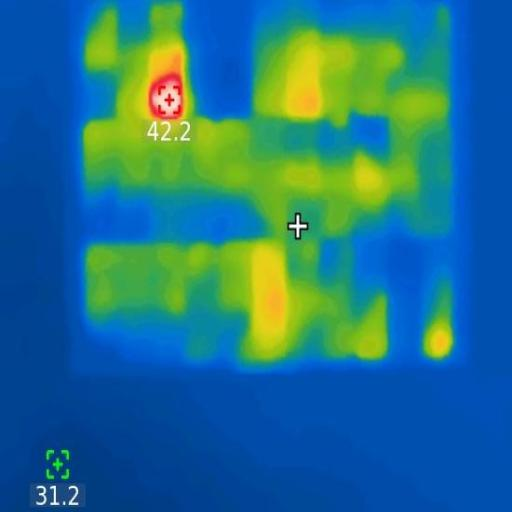hotspot: (151, 74, 185, 122)
